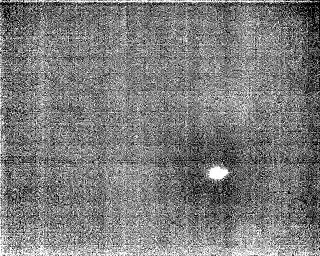AIRPLANE: (205, 161, 231, 184)
